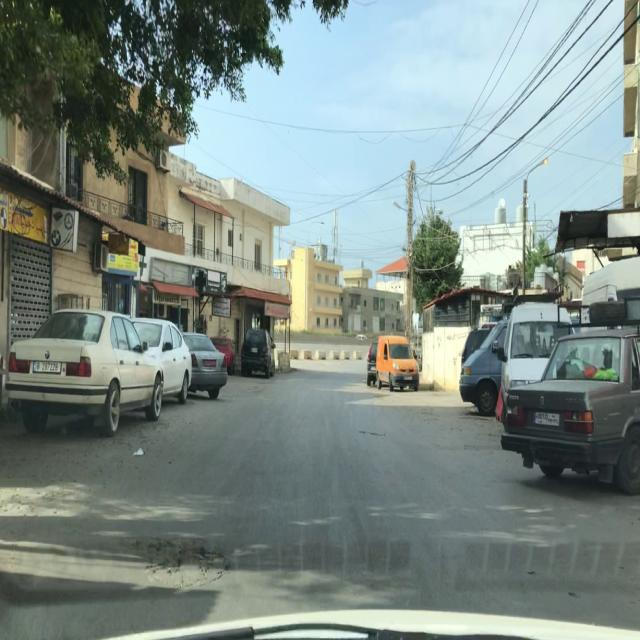Pothole: (130, 536, 234, 589)
